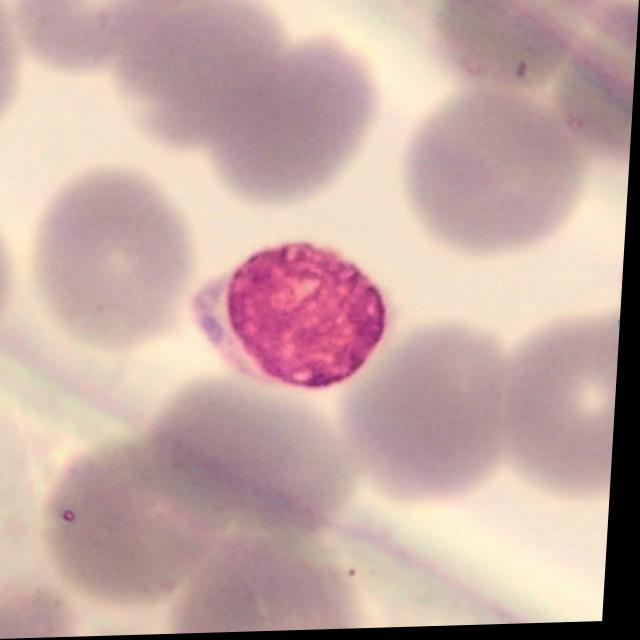Linfocito: (194, 242, 394, 392)
